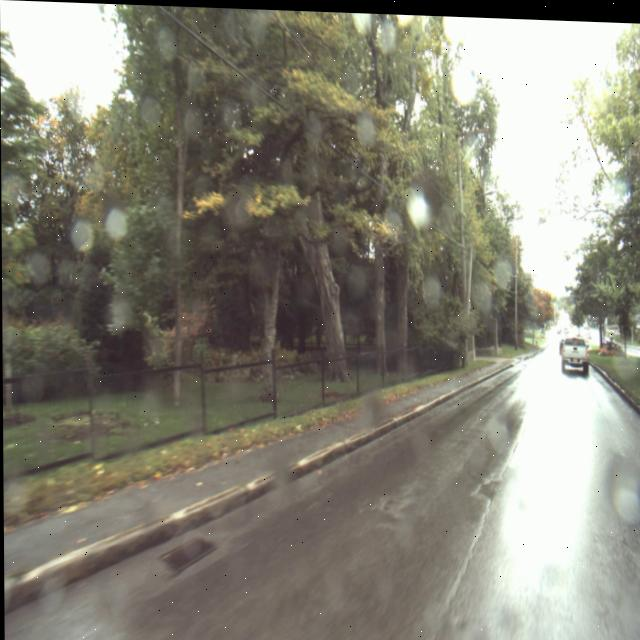car: (561, 333, 588, 372)
